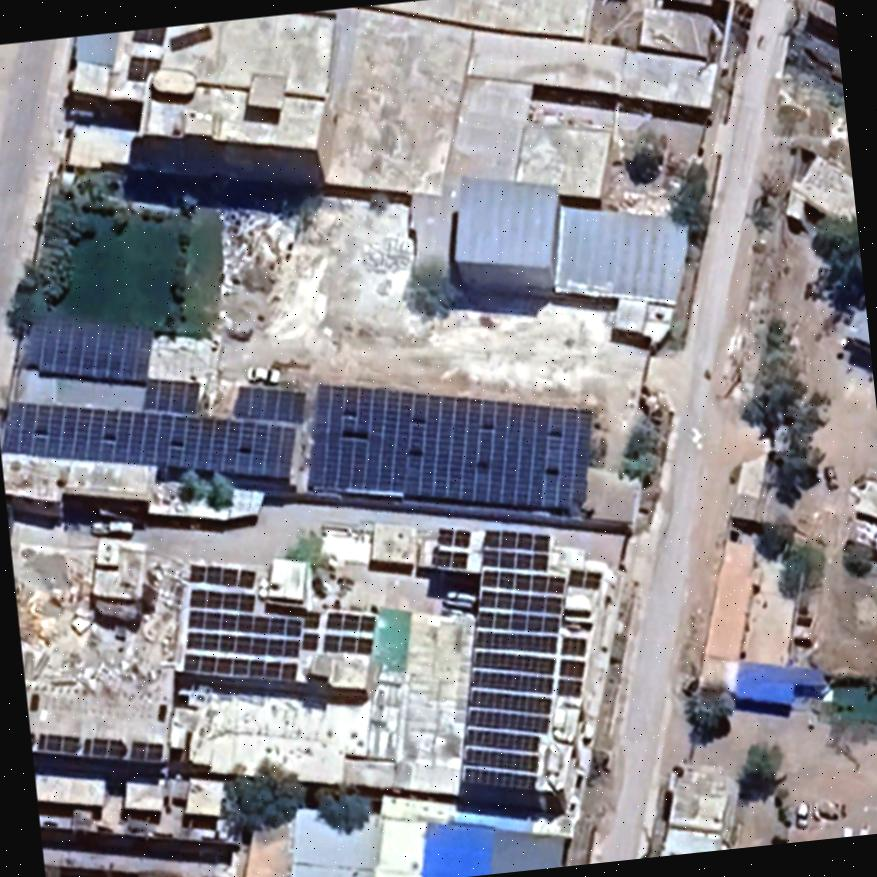Solarpanel: (0, 318, 321, 479), (446, 526, 609, 801), (300, 378, 597, 516), (170, 560, 386, 692), (31, 724, 166, 765), (424, 524, 476, 575), (164, 23, 222, 56), (116, 51, 164, 83), (126, 27, 170, 46)
